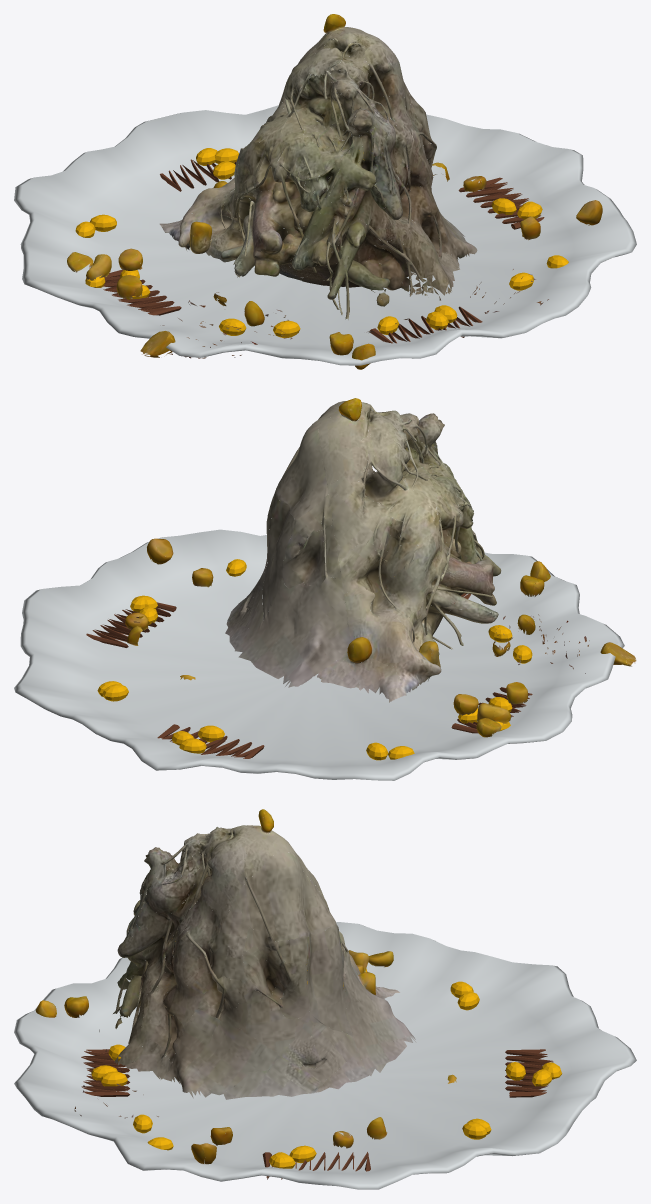
The model's file is salat3.glb.
3 views of the same model, one above another, from view 1: azimuth 30°, elevation 25°; view 2: azimuth 150°, elevation 25°; view 3: azimuth 270°, elevation 25° (orthographic).
Visible parts, largest first — view 1: plate, tripo_node_a3d9c9df-4d19-4032-959a-adc9dd36f1fd, sauce, sauce.002, sauce.003, sauce.001; view 2: plate, tripo_node_a3d9c9df-4d19-4032-959a-adc9dd36f1fd, sauce, sauce.001; view 3: plate, tripo_node_a3d9c9df-4d19-4032-959a-adc9dd36f1fd, sauce.001, sauce.003, sauce.
Boxes of the visible parts, x1=… form: plate: x1=14, y1=105, x2=636, y2=365; tripo_node_a3d9c9df-4d19-4032-959a-adc9dd36f1fd: x1=67, y1=14, x2=602, y2=369; sauce: x1=458, y1=177, x2=544, y2=229; sauce.002: x1=103, y1=269, x2=181, y2=315; sauce.003: x1=369, y1=306, x2=482, y2=343; sauce.001: x1=160, y1=159, x2=236, y2=191; plate: x1=14, y1=523, x2=624, y2=780; tripo_node_a3d9c9df-4d19-4032-959a-adc9dd36f1fd: x1=125, y1=398, x2=636, y2=737; sauce: x1=86, y1=602, x2=176, y2=647; sauce.001: x1=157, y1=724, x2=264, y2=758; plate: x1=14, y1=922, x2=636, y2=1189; tripo_node_a3d9c9df-4d19-4032-959a-adc9dd36f1fd: x1=35, y1=809, x2=456, y2=1164; sauce.001: x1=505, y1=1049, x2=553, y2=1097; sauce.003: x1=81, y1=1049, x2=129, y2=1096; sauce: x1=262, y1=1152, x2=370, y2=1179.
Bounding box in the file's own units: 1.06 × 0.4977 × 1.05.
Materials: 4 (1 with a texture image).
